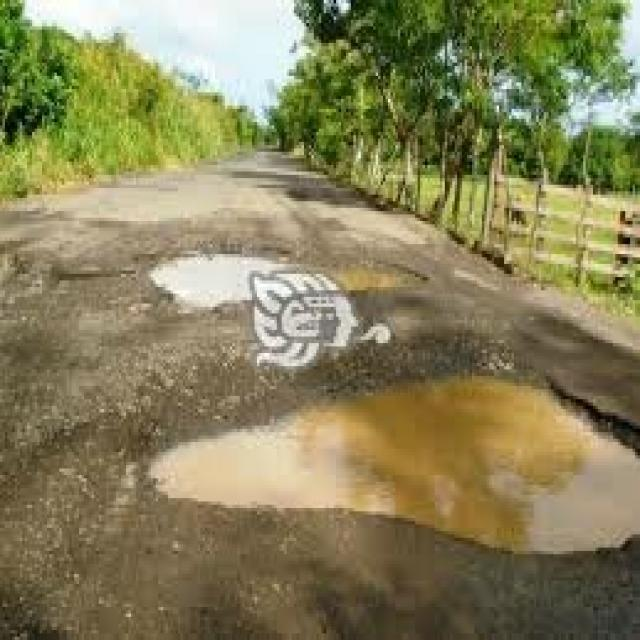Pothole: (99, 356, 640, 571), (128, 241, 464, 313)
